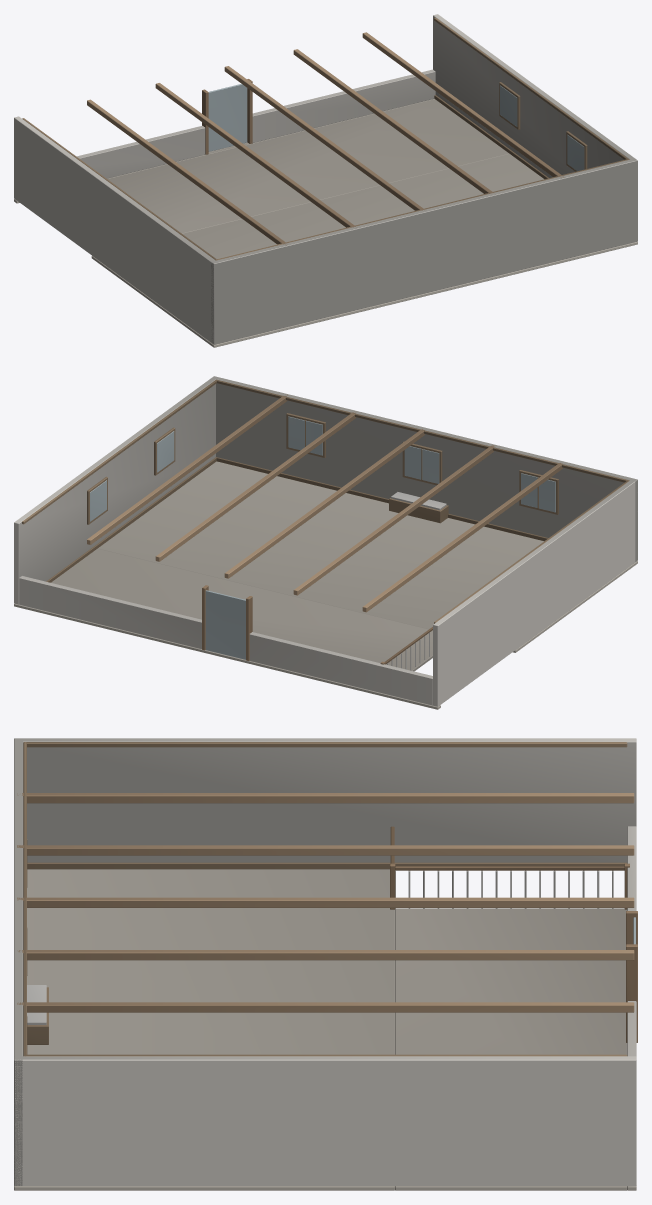
The model's file is home_upper_room__base.glb.
3 renders of one model, top to bottom at view 1: azimuth 30°, elevation 25°; view 2: azimuth 150°, elevation 25°; view 3: azimuth 270°, elevation 25°, orthographic. The views are drawn at different scales.
Size of the model in its own units: 16.4 by 3.11 by 13.43.
